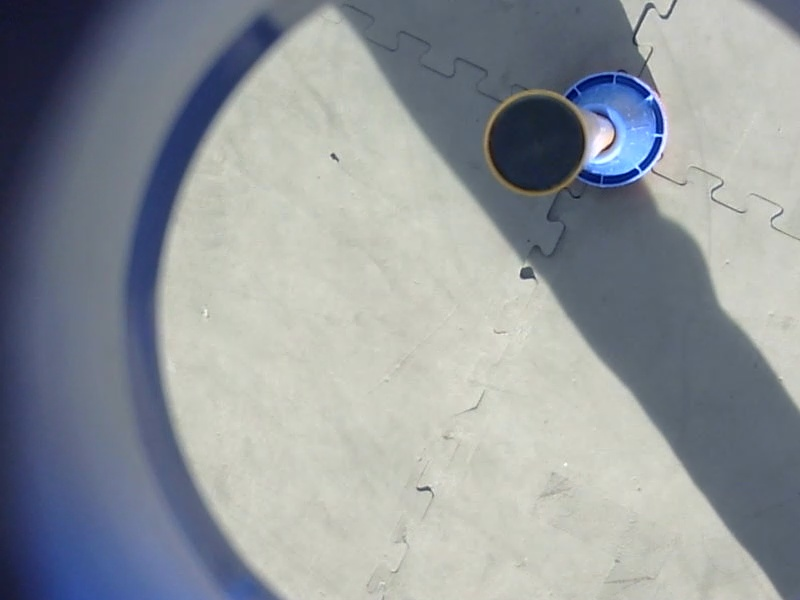tip: (471, 80, 598, 206)
